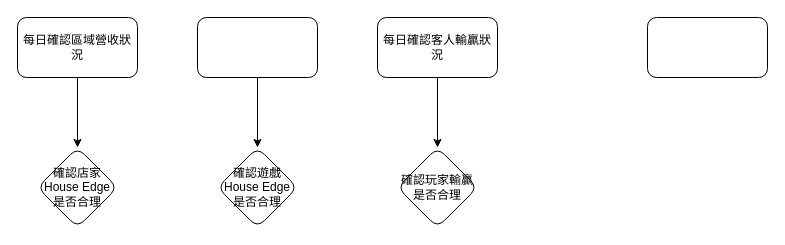
Image size: 785x245. Some labels were removed from this diagram. The centre of each missing label's shape, as x and y in pixels:
"每日確認遊戲輸贏狀況" belongs at (x=257, y=47).
"自動產出日報、週報、月報" belongs at (x=707, y=47).
